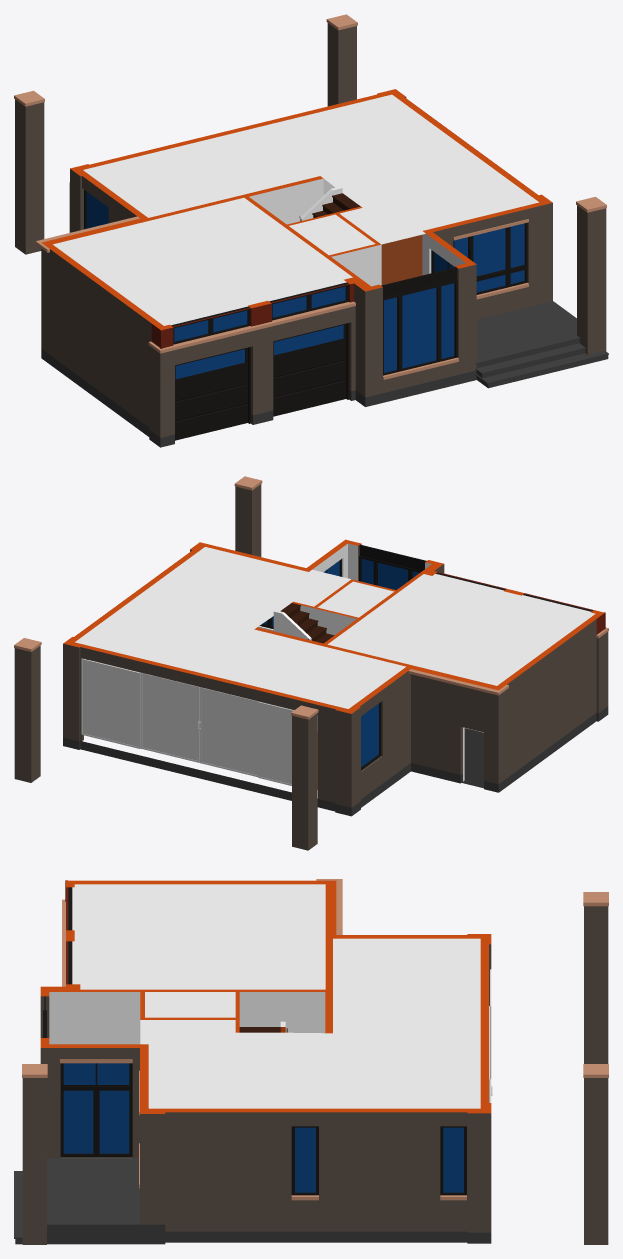
File: 1stFloor.FBX
The picture shows the model from 3 angles, top to bottom: view 1: azimuth 30°, elevation 25°; view 2: azimuth 150°, elevation 25°; view 3: azimuth 270°, elevation 25°; orthographic projection. The views are drawn at different scales.
Visible parts, largest first — view 1: WallsGarage_Ceiling, 1stFL_Ceiling, Garage_ExteriorWall, 1stFL_MainEntranceExtWall, 1stFL_WinGlass (×5), 1stFL_Ceiling001, GarageDoors, 1stFL_ExtWall, MainEntrance_Stairs, 1stFL_Section, 1stFL_Mullions (×2), ConcreteFoundation (+8 smaller); view 2: Garage_ExteriorWall, WallsGarage_Ceiling, 1stFL_Ceiling, 1stFL_ExtWall, 1stFL_MainEntranceExtWall, 1stFL_Ceiling001, 1stFL_Section, GlassPatioWindow_02, ConcreteFoundation, GlassPatioDoor_01, GlassPatioDoor_02, GlassPatioWindow_01 (+9 smaller); view 3: 1stFL_ExtWall, WallsGarage_Ceiling, 1stFL_Ceiling, 1stFL_MainEntranceExtWall, 1stFL_Ceiling001, 1stFL_Section, MainEntrance_Stairs, 1stFL_WinGlass (×2), 1stFL_Foyer, ConcreteFoundation, Staircase, 1stFL_PowderRoom (+4 smaller).
Boxes of the visible parts, left/top/right/bottom form: WallsGarage_Ceiling: left=53, top=198, right=352, bottom=325; 1stFL_Ceiling: left=255, top=94, right=538, bottom=244; Garage_ExteriorWall: left=41, top=248, right=355, bottom=437; 1stFL_MainEntranceExtWall: left=15, top=23, right=606, bottom=354; 1stFL_WinGlass (×5): left=86, top=192, right=524, bottom=379; 1stFL_Ceiling001: left=83, top=128, right=319, bottom=217; GarageDoors: left=175, top=323, right=349, bottom=440; 1stFL_ExtWall: left=69, top=94, right=476, bottom=397; MainEntrance_Stairs: left=475, top=301, right=608, bottom=388; 1stFL_Section: left=41, top=89, right=552, bottom=330; 1stFL_Mullions (×2): left=171, top=267, right=457, bottom=375; ConcreteFoundation: left=41, top=349, right=476, bottom=447; Garage_ExteriorWall: left=411, top=619, right=608, bottom=784; WallsGarage_Ceiling: left=327, top=574, right=595, bottom=685; 1stFL_Ceiling: left=75, top=547, right=350, bottom=671; 1stFL_ExtWall: left=63, top=543, right=444, bottom=807; 1stFL_MainEntranceExtWall: left=14, top=484, right=317, bottom=850; 1stFL_Ceiling001: left=196, top=629, right=405, bottom=708; 1stFL_Section: left=63, top=539, right=604, bottom=713; GlassPatioWindow_02: left=81, top=658, right=140, bottom=748; ConcreteFoundation: left=63, top=706, right=608, bottom=816; GlassPatioDoor_01: left=140, top=672, right=199, bottom=762; GlassPatioDoor_02: left=199, top=687, right=258, bottom=777; GlassPatioWindow_01: left=258, top=702, right=293, bottom=785; 1stFL_ExtWall: left=40, top=944, right=491, bottom=1232; WallsGarage_Ceiling: left=72, top=884, right=325, bottom=989; 1stFL_Ceiling: left=140, top=1020, right=480, bottom=1108; 1stFL_MainEntranceExtWall: left=22, top=906, right=608, bottom=1244; 1stFL_Ceiling001: left=333, top=938, right=480, bottom=1033; 1stFL_Section: left=40, top=880, right=491, bottom=1113; MainEntrance_Stairs: left=14, top=1158, right=139, bottom=1244; 1stFL_WinGlass (×2): left=63, top=1063, right=463, bottom=1192; 1stFL_Foyer: left=49, top=992, right=140, bottom=1044; ConcreteFoundation: left=140, top=1224, right=491, bottom=1244; Staircase: left=239, top=992, right=325, bottom=1033; 1stFL_PowderRoom: left=145, top=992, right=235, bottom=1017.
Bounding box in the file's own units: 14.64 × 4.93 × 15.61.
